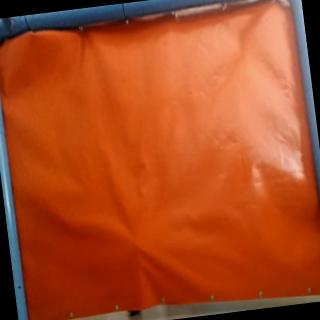Hit-hRxx: (130, 236, 148, 253)
